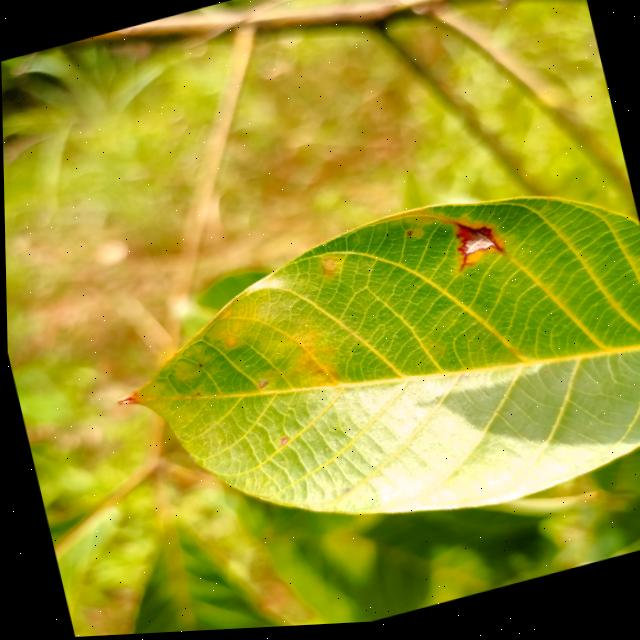Corynespora: (448, 216, 504, 275)
Leaf-Blight: (461, 234, 493, 259), (114, 392, 137, 409)
